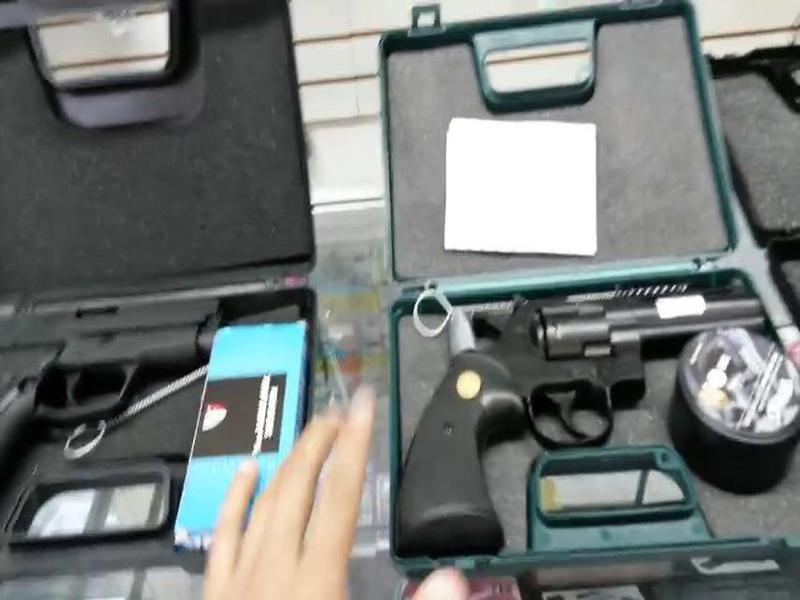Revolver: (375, 257, 770, 564)
